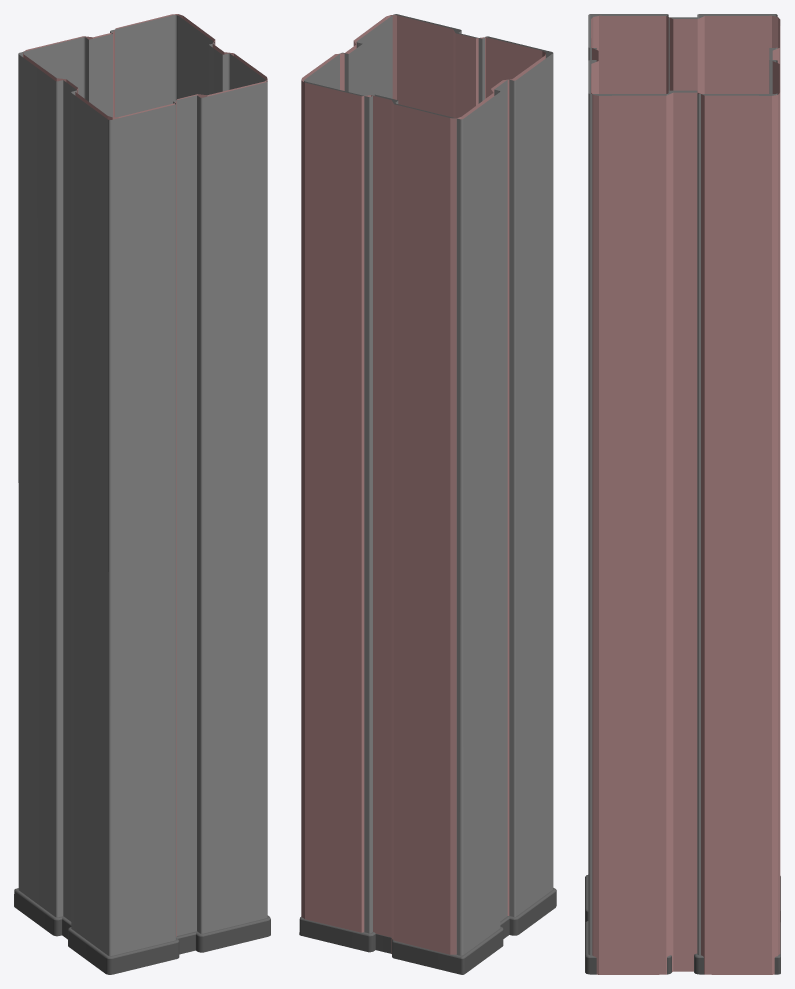
File: SR_Pillar_01.fbx
3 renders of one model, left to right at view 1: azimuth 30°, elevation 25°; view 2: azimuth 150°, elevation 25°; view 3: azimuth 270°, elevation 25°, orthographic. The views are drawn at different scales.
Visible parts, largest first — view 1: SR_Pillar_01_LOD0, SR_Pillar_01_Col; view 2: SR_Pillar_01_Col, SR_Pillar_01_LOD0; view 3: SR_Pillar_01_Col, SR_Pillar_01_LOD0.
Boxes of the visible parts, x1,y1,x2,y2 form: SR_Pillar_01_LOD0: (14, 15, 270, 974); SR_Pillar_01_Col: (23, 14, 267, 936); SR_Pillar_01_Col: (301, 15, 545, 954); SR_Pillar_01_LOD0: (299, 14, 556, 974); SR_Pillar_01_Col: (591, 15, 780, 974); SR_Pillar_01_LOD0: (585, 14, 780, 974).
Bounding box in the file's own units: 120 × 589 × 119.
